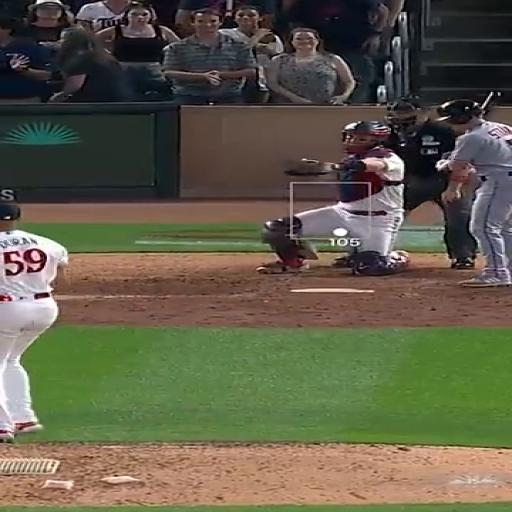bat: (481, 92, 500, 112)
